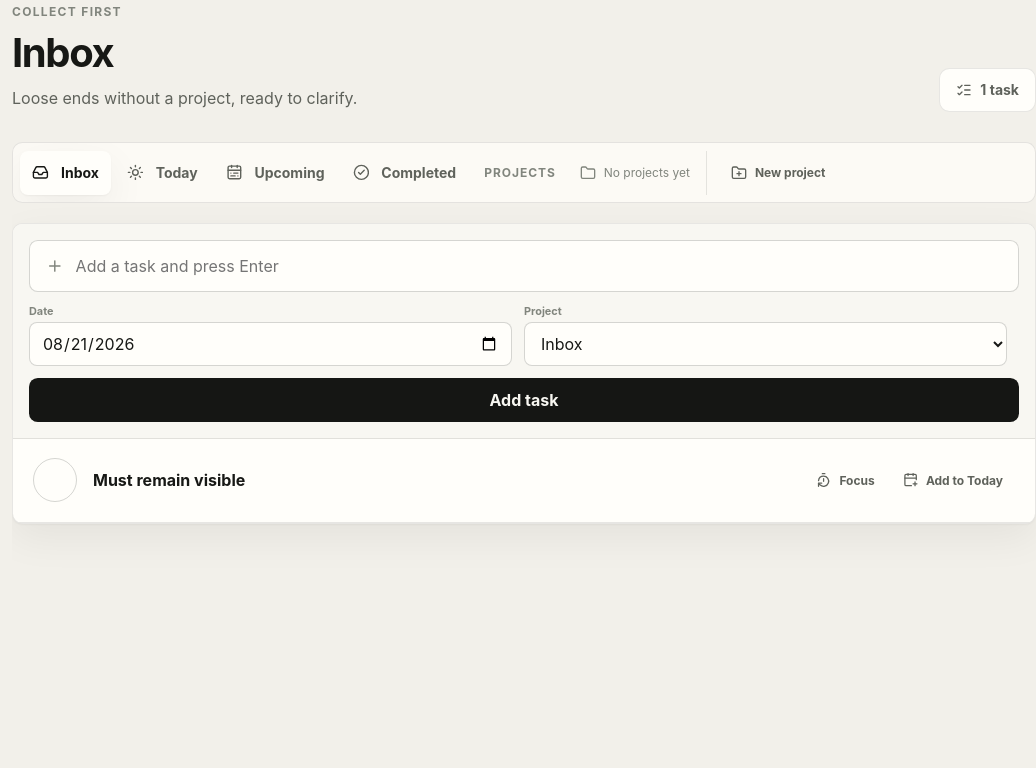
Test: TasksPage daily flow › rolls back optimistic completion and shows a durable-write error
This screenshot has width=1036, height=768.
Expected: the text "Must remain visible" is shown, [93, 470, 245, 490]
Click the button named "Complete Must remain visible" at (55, 480), box [33, 458, 77, 502]
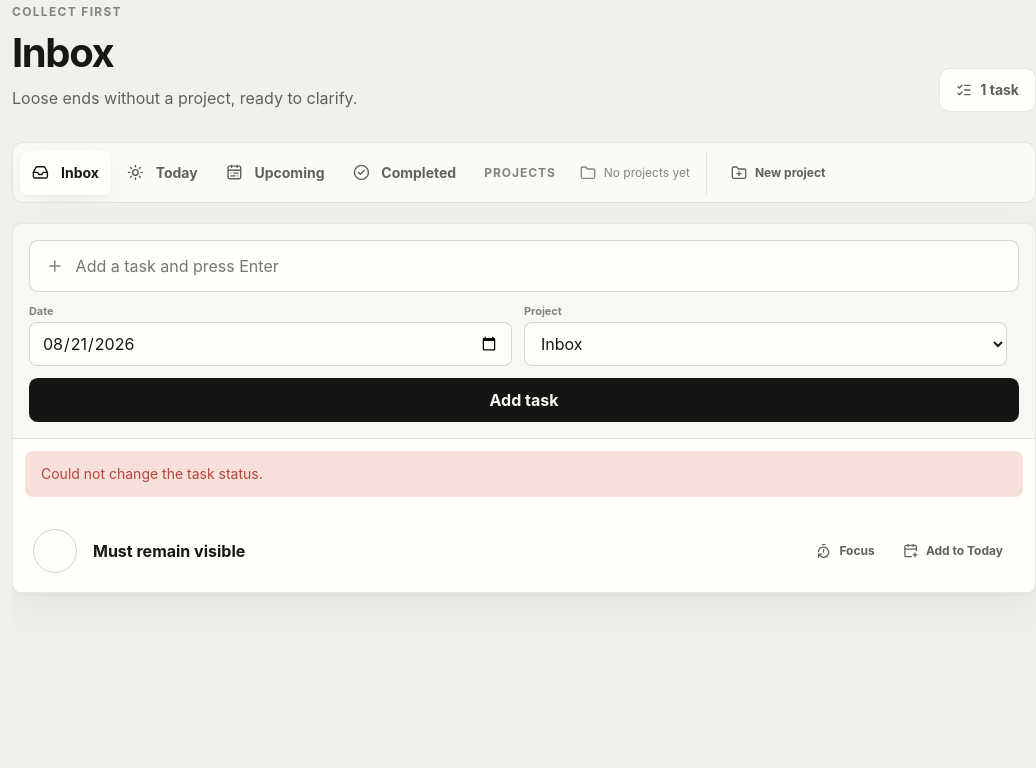
Expected: the text "Must remain visible" is shown, [93, 541, 245, 561]
Now the message reads "Could not change the task status.", box [41, 465, 263, 482]
